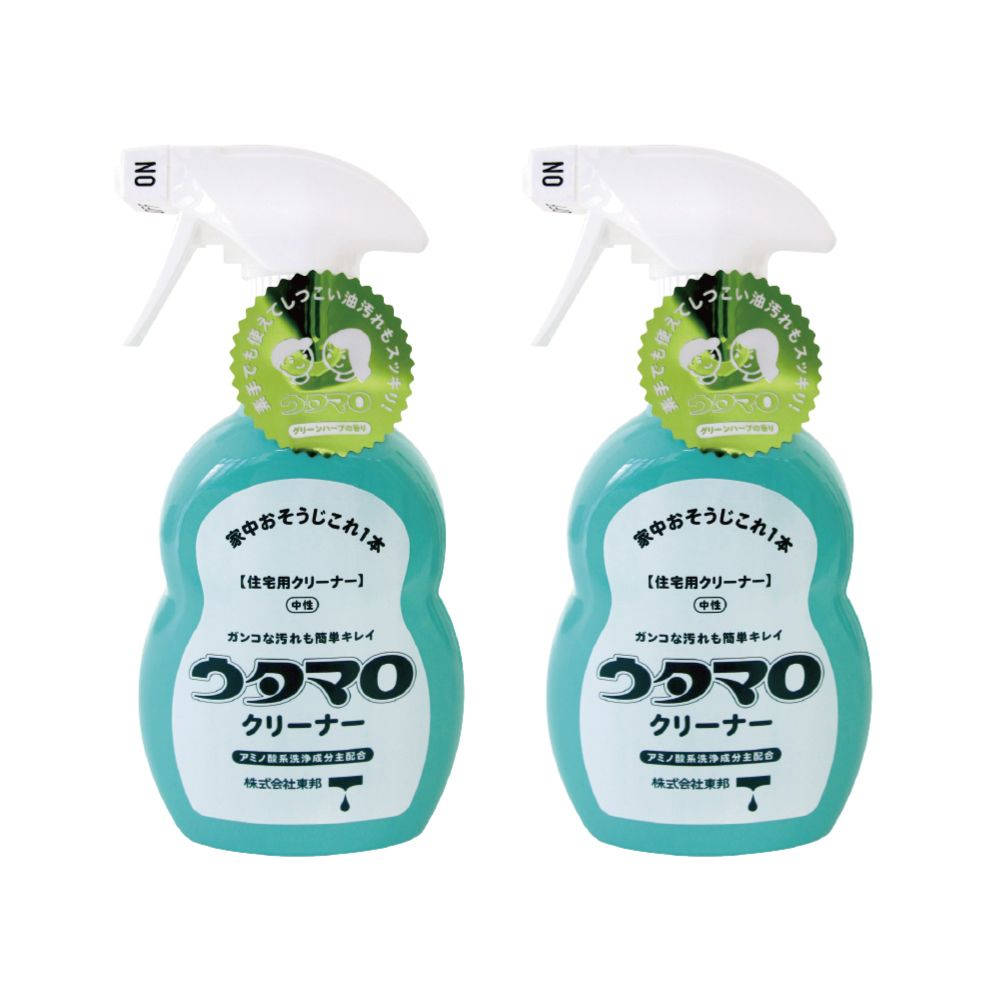cleaner: (502, 133, 893, 856), (92, 142, 479, 851)
